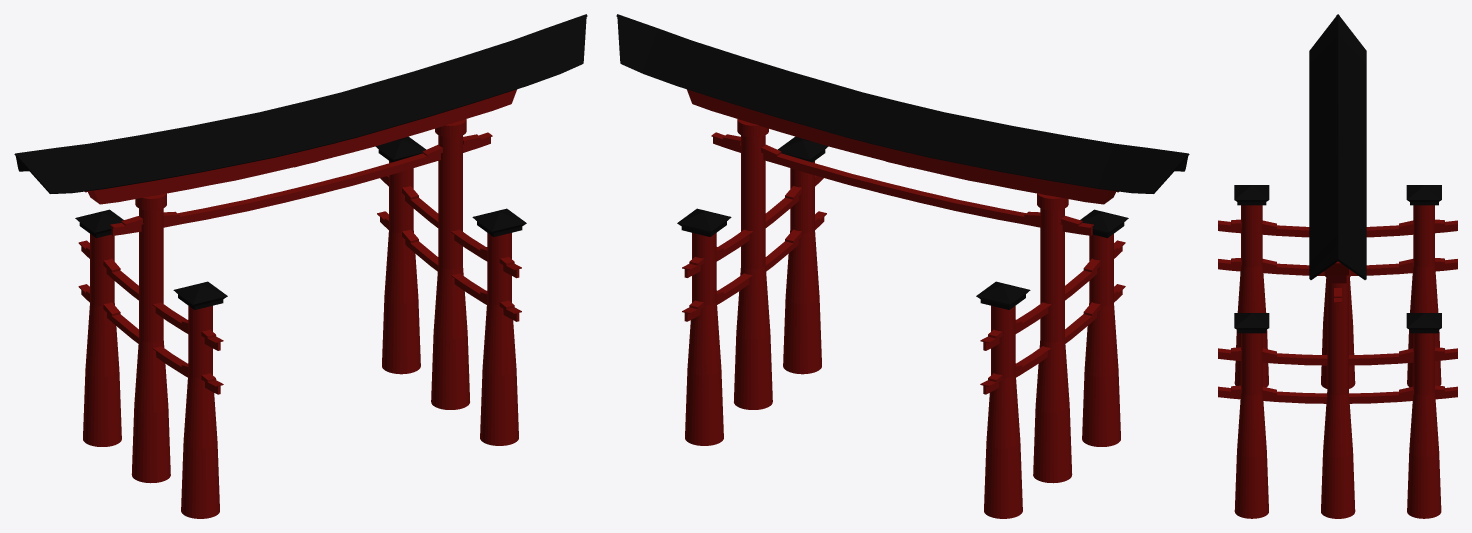
The model's file is torii.obj.
3 renders of one model, left to right at view 1: azimuth 30°, elevation 25°; view 2: azimuth 150°, elevation 25°; view 3: azimuth 270°, elevation 25°, orthographic. The views are drawn at different scales.
Visible parts, largest first — view 1: Torii; view 2: Torii; view 3: Torii.
Part boxes in pixels (bbox=[...]): Torii: bbox=[14, 14, 587, 518]; Torii: bbox=[616, 14, 1189, 518]; Torii: bbox=[1218, 14, 1457, 518].
Size of the model in its own units: 9.24 by 5.48 by 3.83.
